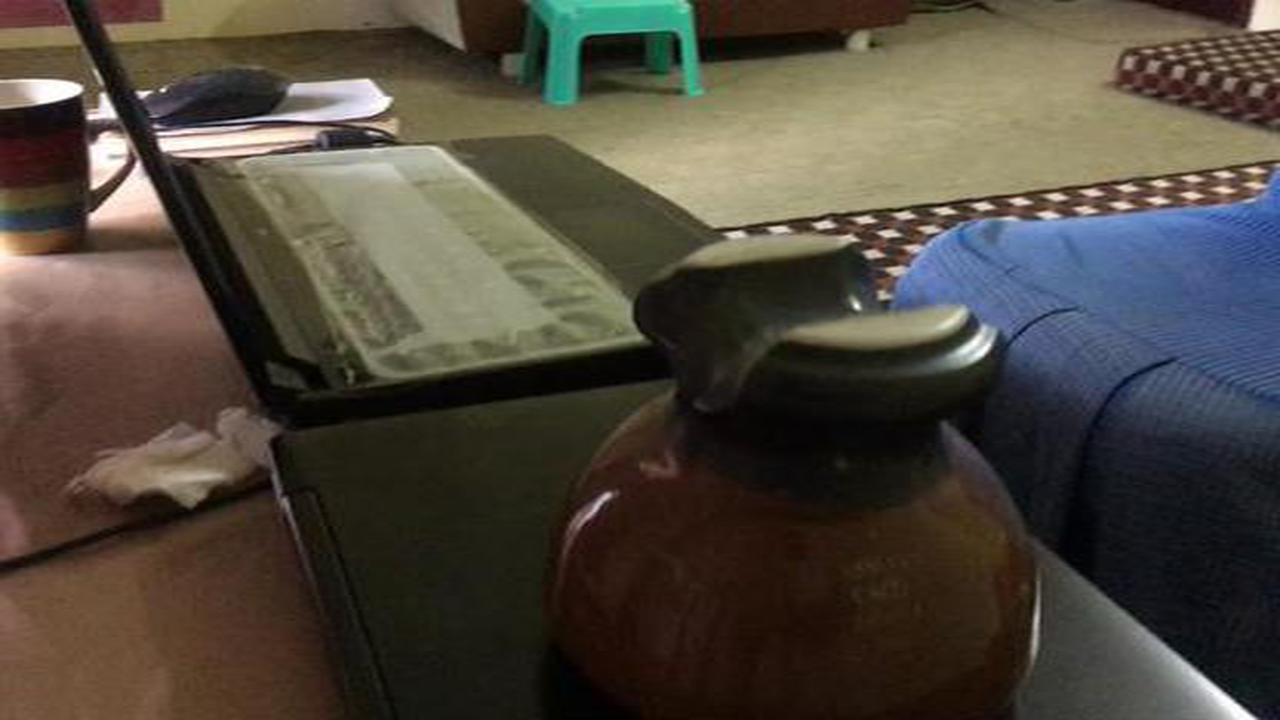insulator_pin: (527, 217, 1050, 720)
